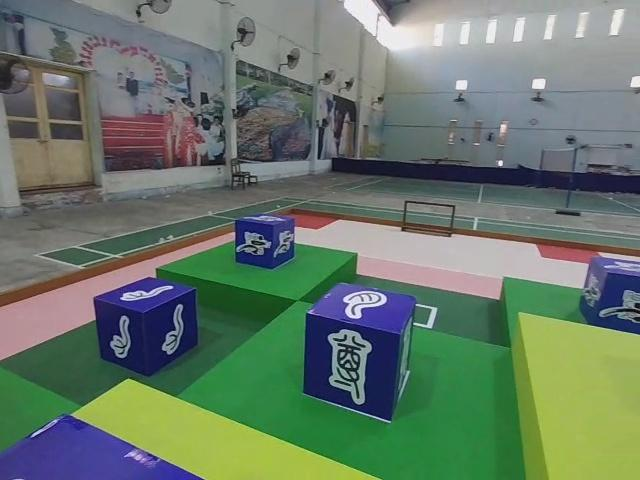R1 Blue: (580, 253, 640, 338), (236, 216, 298, 273)
R2 Fake Blue: (303, 284, 417, 427)
R2 Real Blue: (93, 278, 200, 379)
